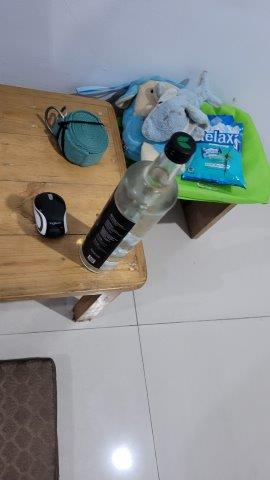botolkaca: (78, 135, 193, 280)
